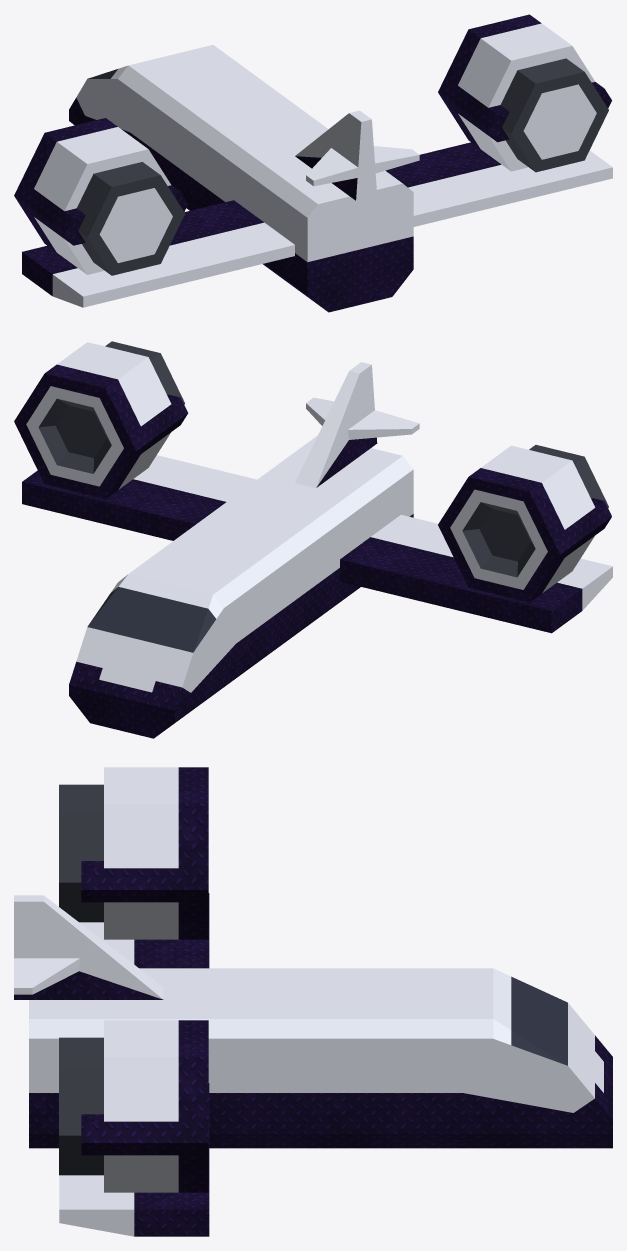
The picture shows the model from 3 angles, top to bottom: view 1: azimuth 30°, elevation 25°; view 2: azimuth 150°, elevation 25°; view 3: azimuth 270°, elevation 25°; orthographic projection. The views are drawn at different scales.
Visible parts, largest first — view 1: mergedBlocks(Clone); view 2: mergedBlocks(Clone); view 3: mergedBlocks(Clone).
Boxes of the visible parts, left/top/right/bottom form: mergedBlocks(Clone): left=14, top=14, right=612, bottom=312; mergedBlocks(Clone): left=14, top=341, right=612, bottom=738; mergedBlocks(Clone): left=14, top=767, right=612, bottom=1236.
Bounding box in the file's own units: 5.15 × 1.7 × 4.
4 materials, 1 textured.
